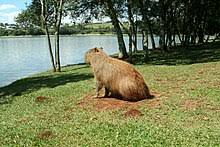capivara: (85, 47, 156, 103)
